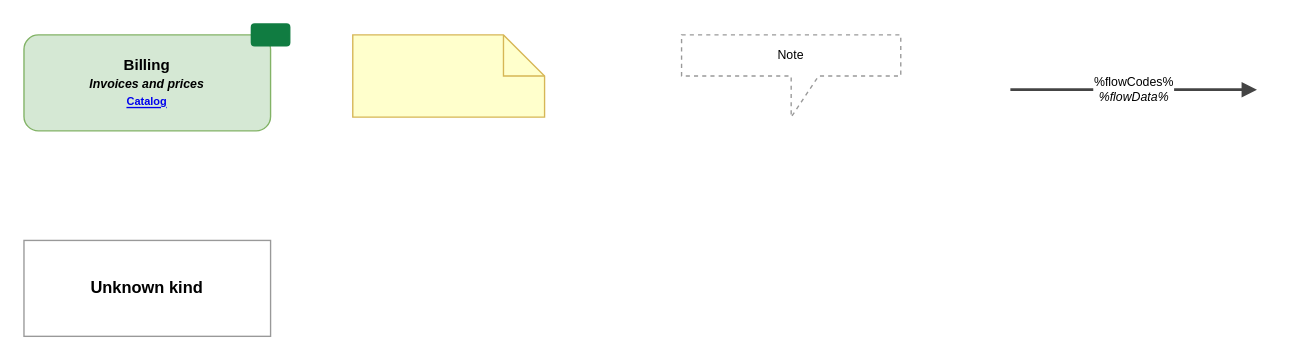
The diagram is 1293 pixels wide and 360 high, and some of its shapes have lost their labels. Here are the shapes that lost their labels. From the top down, the centre of each, then its label:
At (x=270, y=34): "XLS".
At (x=448, y=75): "Spreadsheet".
